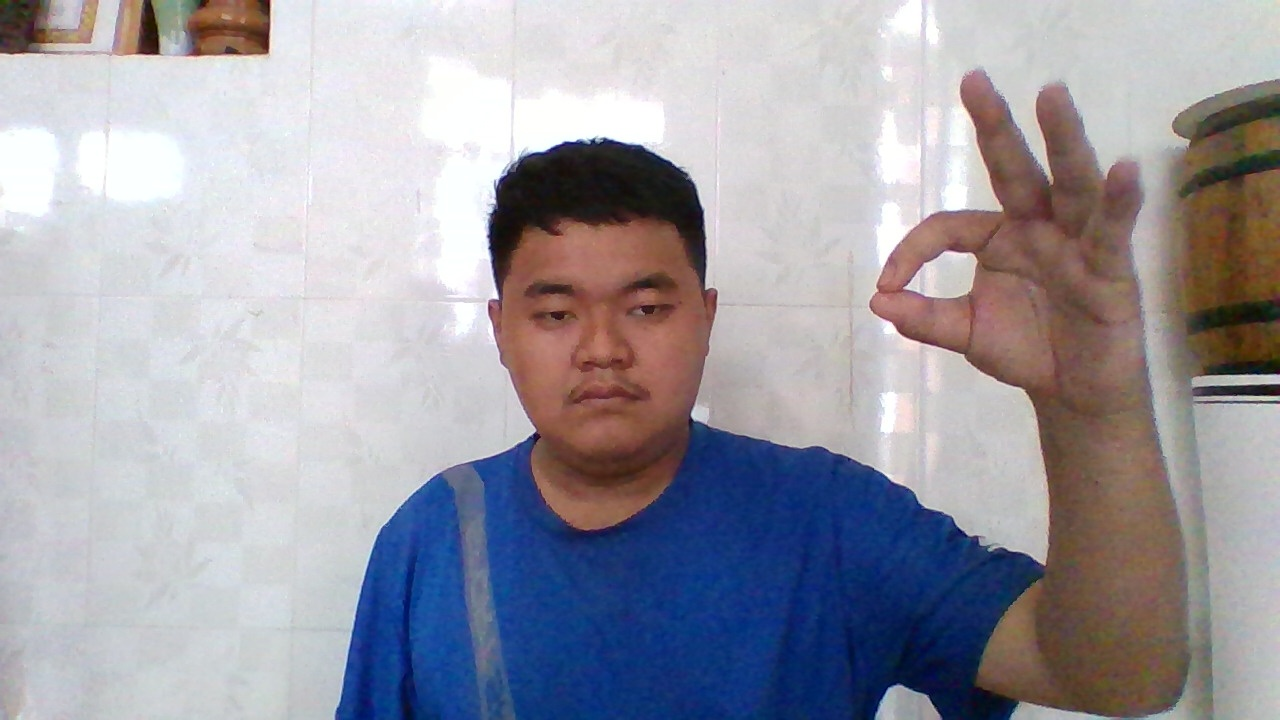T: (864, 72, 1140, 406)
